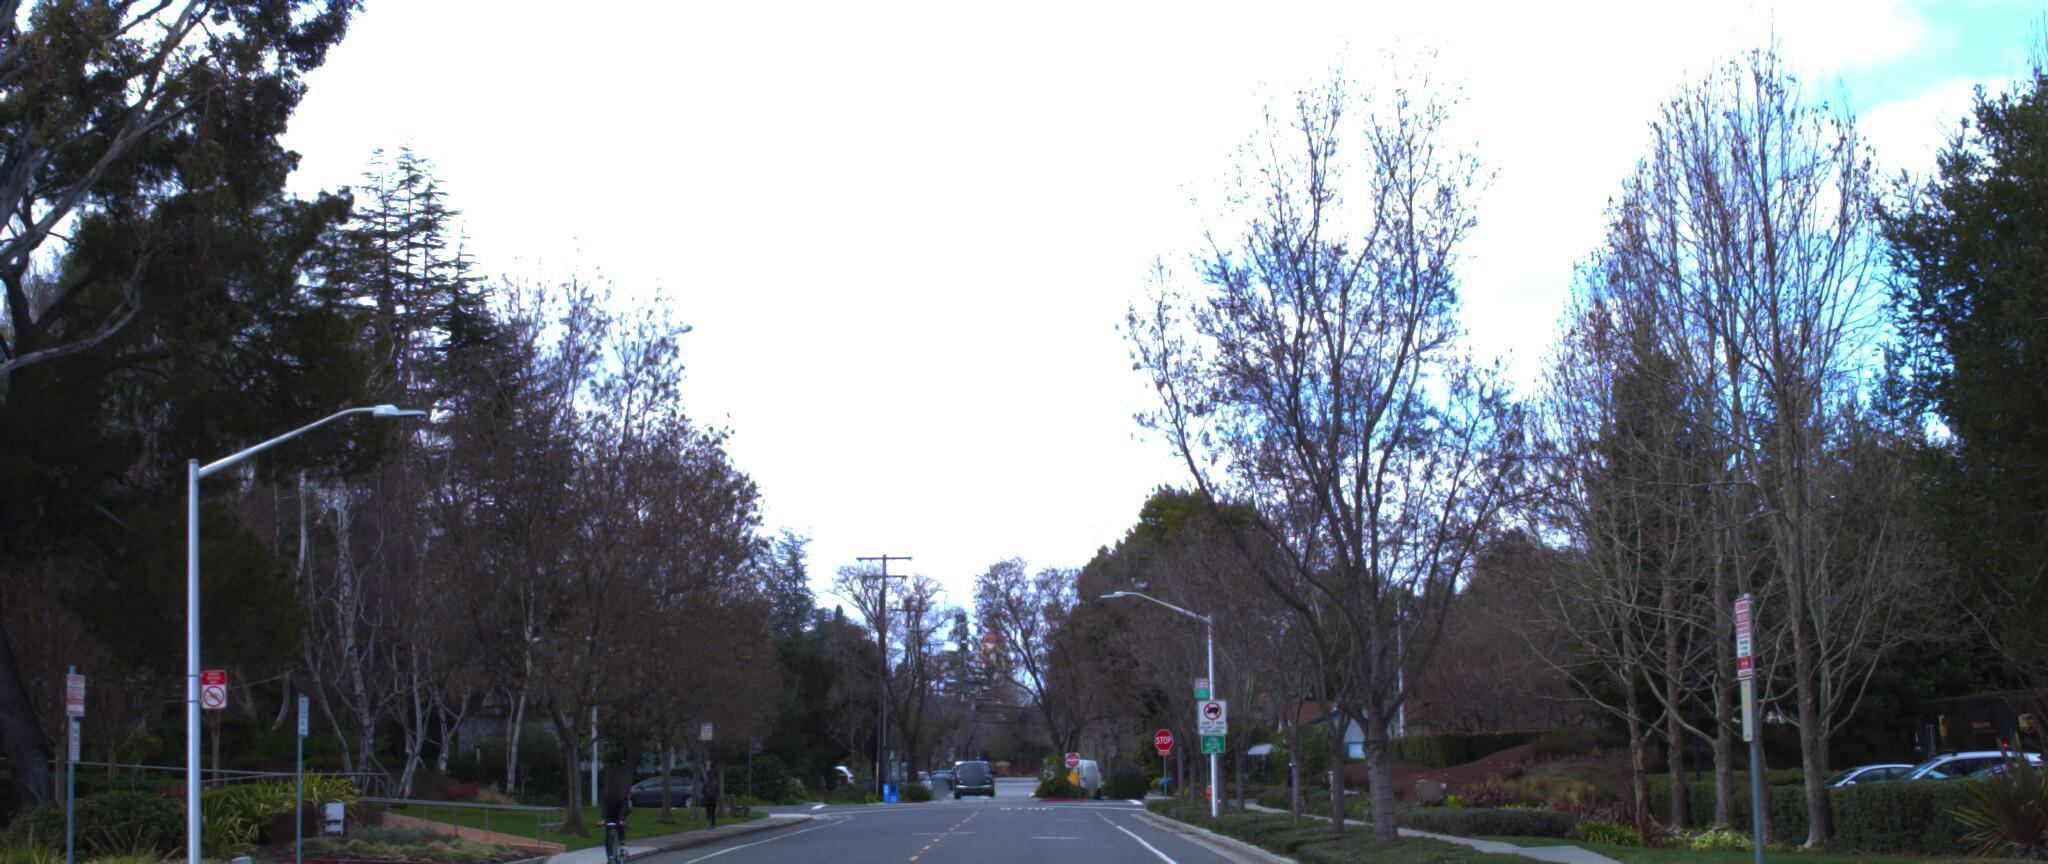bicycle: (585, 752, 653, 864)
